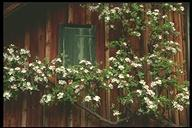flower: (87, 1, 190, 122), (6, 60, 106, 107)
window: (54, 23, 99, 63)
